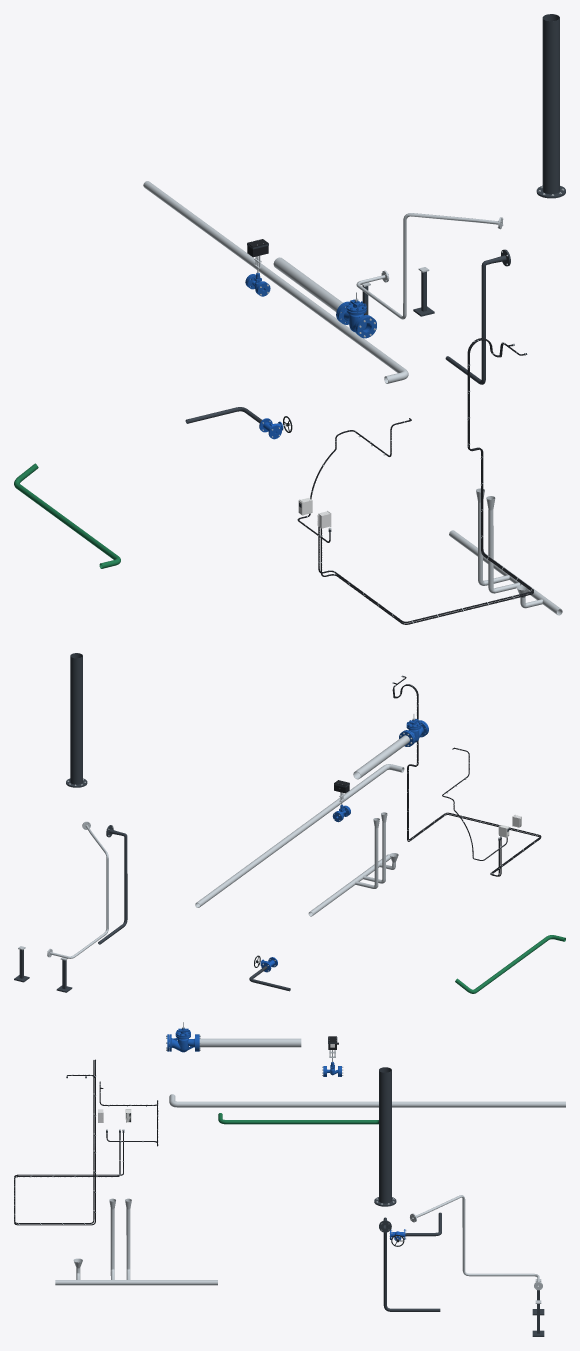
File: s4000-5-oa6z5sbG.glb
The picture shows the model from 3 angles, top to bottom: view 1: azimuth 30°, elevation 25°; view 2: azimuth 150°, elevation 25°; view 3: azimuth 270°, elevation 25°; orthographic projection. The views are drawn at different scales.
Parts seen in each view (by area): view 1: bdv_vent / dark, safety_vent_2 / steel, local_open_drains / steel, trap_gap_to_bdv / steel, wiring_pressure_switch_2 / black, wiring_pressure_switch_1 / black, deaerator_feed / green, bottom_to_bdv / dark, steam_delivery / steel; view 2: bdv_vent / dark, safety_vent_2 / steel, local_open_drains / steel, wiring_pressure_switch_1 / black, trap_gap_to_bdv / steel, deaerator_feed / green, steam_delivery / steel, bottom_to_bdv / dark, wiring_pressure_switch_2 / black; view 3: safety_vent_2 / steel, local_open_drains / steel, bdv_vent / dark, steam_delivery / steel, trap_gap_to_bdv / steel, deaerator_feed / green, wiring_pressure_switch_2 / black, bottom_to_bdv / dark, wiring_pressure_switch_1 / black, gpz CAD solid 0.
Part boxes in pixels (bbox=[...]): bdv_vent / dark: bbox=[536, 14, 565, 198]; safety_vent_2 / steel: bbox=[143, 181, 408, 383]; local_open_drains / steel: bbox=[449, 488, 562, 615]; trap_gap_to_bdv / steel: bbox=[356, 213, 503, 319]; wiring_pressure_switch_2 / black: bbox=[318, 338, 533, 622]; wiring_pressure_switch_1 / black: bbox=[320, 338, 533, 624]; deaerator_feed / green: bbox=[14, 463, 120, 568]; bottom_to_bdv / dark: bbox=[445, 249, 510, 384]; steam_delivery / steel: bbox=[273, 257, 342, 311]; bdv_vent / dark: bbox=[66, 653, 87, 787]; safety_vent_2 / steel: bbox=[195, 764, 404, 907]; local_open_drains / steel: bbox=[308, 812, 398, 916]; wiring_pressure_switch_1 / black: bbox=[392, 676, 541, 876]; trap_gap_to_bdv / steel: bbox=[47, 821, 108, 958]; deaerator_feed / green: bbox=[455, 935, 565, 993]; steam_delivery / steel: bbox=[353, 735, 409, 779]; bottom_to_bdv / dark: bbox=[98, 825, 127, 944]; wiring_pressure_switch_2 / black: bbox=[394, 683, 541, 876]; safety_vent_2 / steel: bbox=[169, 1094, 565, 1107]; local_open_drains / steel: bbox=[55, 1198, 217, 1285]; bdv_vent / dark: bbox=[374, 1067, 396, 1206]; steam_delivery / steel: bbox=[199, 1038, 301, 1047]; trap_gap_to_bdv / steel: bbox=[410, 1195, 542, 1290]; deaerator_feed / green: bbox=[218, 1113, 378, 1124]; wiring_pressure_switch_2 / black: bbox=[14, 1060, 123, 1223]; bottom_to_bdv / dark: bbox=[379, 1217, 440, 1311]; wiring_pressure_switch_1 / black: bbox=[14, 1059, 120, 1225]; gpz CAD solid 0: bbox=[169, 1022, 196, 1052].
Size of the model in its own units: 6.36 by 4.11 by 7.03.
